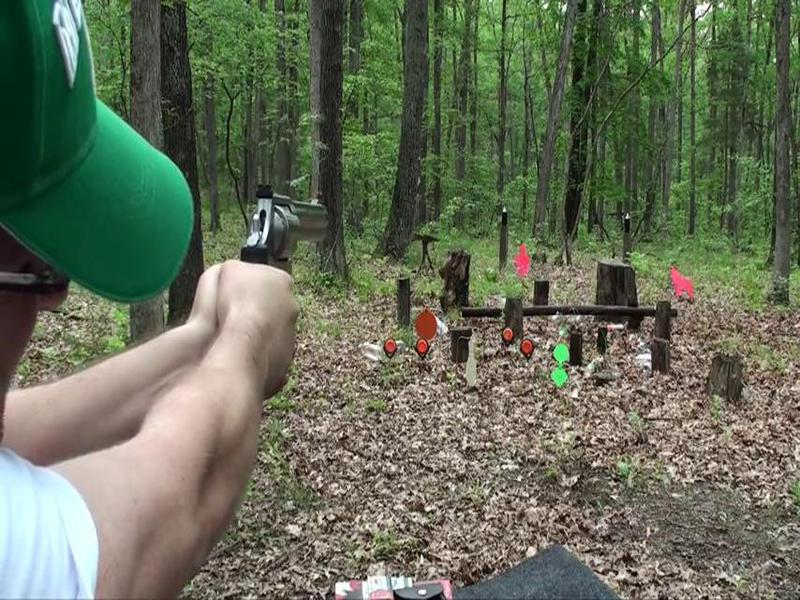Revolver: (186, 177, 335, 346)
